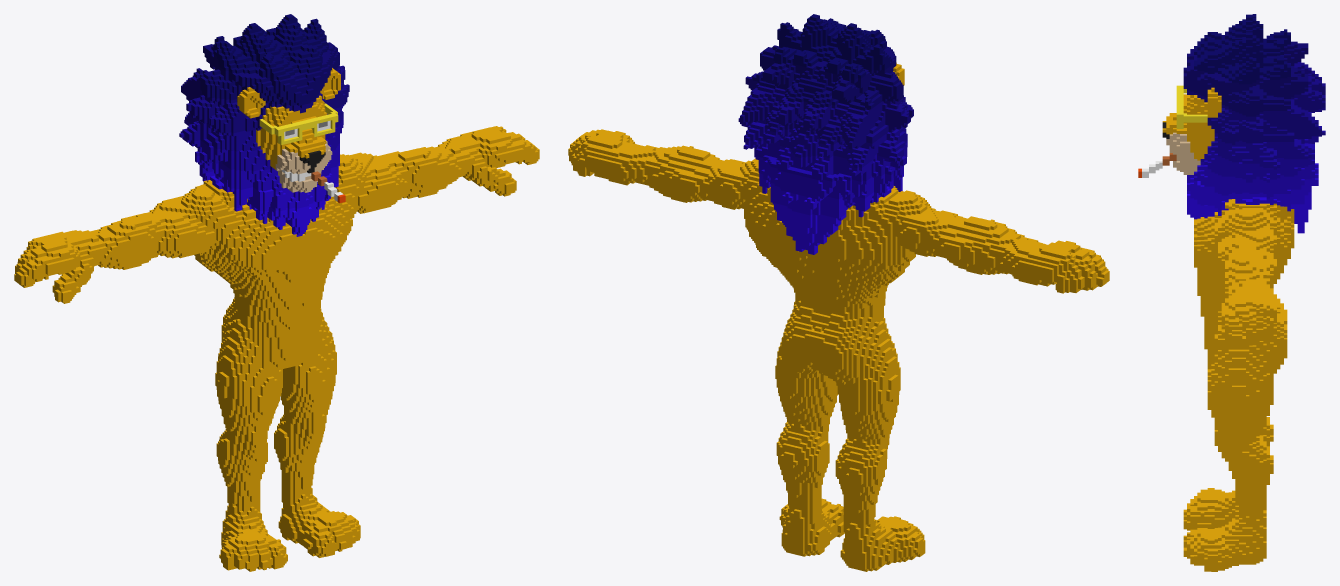
The model's file is 719-v2YXhfJU.glb.
The picture shows the model from 3 angles, left to right: view 1: azimuth 30°, elevation 25°; view 2: azimuth 150°, elevation 25°; view 3: azimuth 270°, elevation 25°; orthographic projection. The views are drawn at different scales.
Parts seen in each view (by area): view 1: cigarette; view 2: cigarette; view 3: cigarette.
Boxes of the visible parts, x1,y1,x2,y2 form: cigarette: (14,14,539,571); cigarette: (568,14,1109,571); cigarette: (1138,14,1325,571).
Size of the model in its own units: 17.2 by 16.5 by 5.4.
Materials: 4 (4 with a texture image).
